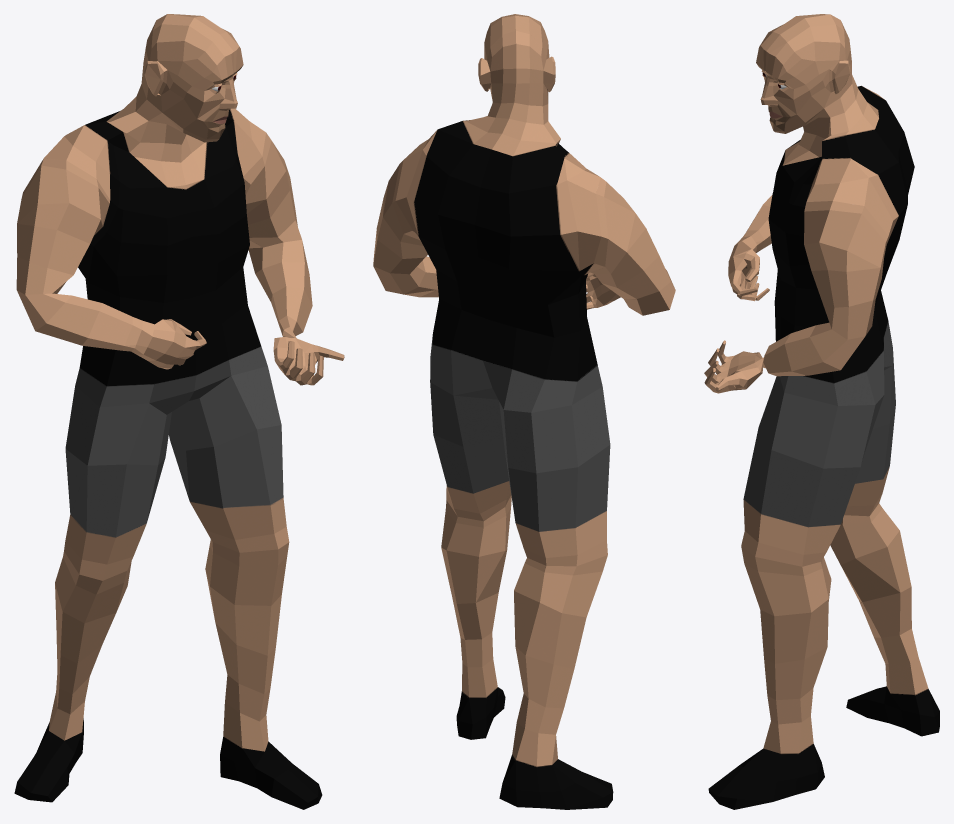
Rendered from PlayerIdle(168).obj.
3 renders of one model, left to right at view 1: azimuth 30°, elevation 25°; view 2: azimuth 150°, elevation 25°; view 3: azimuth 270°, elevation 25°, orthographic. The views are drawn at different scales.
Visible parts, largest first — view 1: Plane002; view 2: Plane002; view 3: Plane002.
Boxes of the visible parts, bbox=[...] form: Plane002: bbox=[14, 14, 344, 809]; Plane002: bbox=[373, 14, 675, 809]; Plane002: bbox=[704, 14, 939, 809].
Size of the model in its own units: 716 by 1797 by 513.
